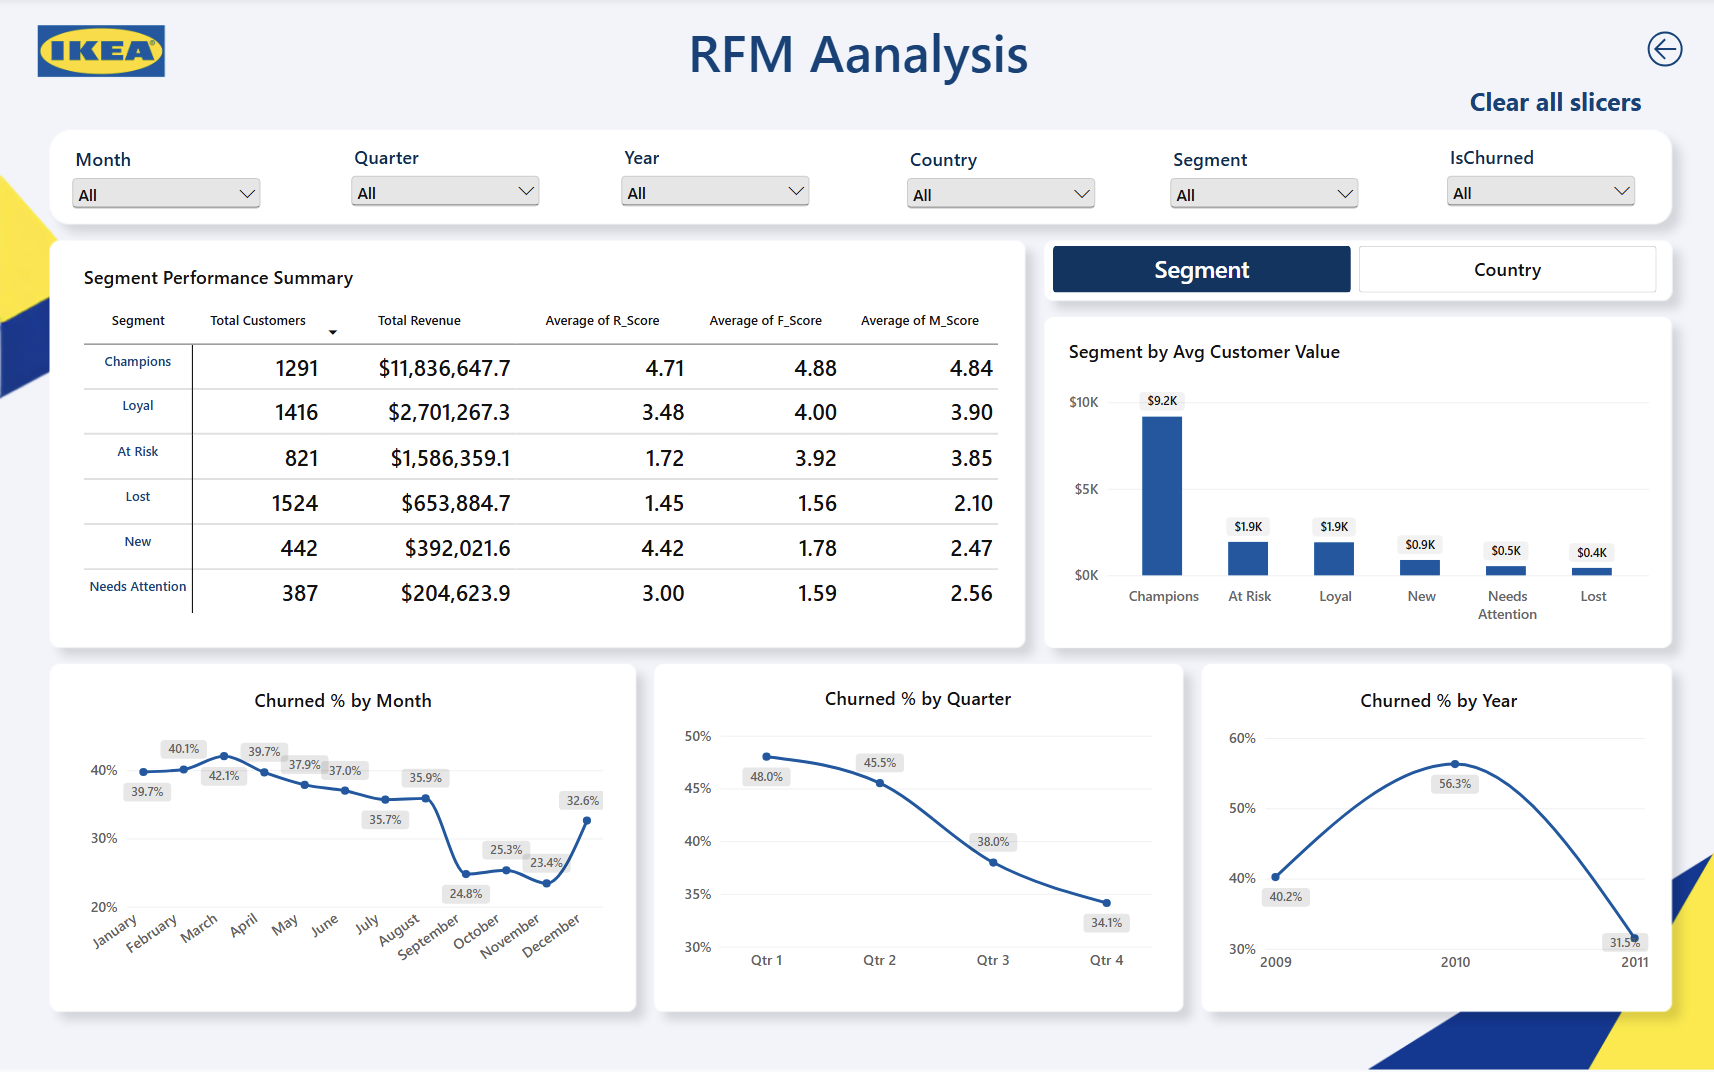

What the dashboard file says about the page in this screenshot:
{"tool":"powerbi","page":{"name":"RFM Aanalysis","canvas":[1750,1100],"ordinal":2},"visuals":[{"type":"slicer","fields":{"Values":["Sheet1.InvoiceDate.Variation.Date Hierarchy.Month"]},"box":[68.9,153.8,202,80.4],"z":0},{"type":"columnChart","title":"Segment by Avg Customer Value","fields":{"Category":["Sheet1.Segment"],"Y":["measure.Avg Customer Value"]},"box":[1074.5,335.2,624.5,323.7],"z":0,"group":"g2"},{"type":"lineChart","fields":{"Category":["Sheet1.InvoiceMonth.Variation.Date Hierarchy.Year"],"Y":["measure.Churned %"]},"box":[1237.5,691.1,461.5,326],"z":0,"group":"g1"},{"type":"slicer","fields":{"Values":["Sheet1.InvoiceDate.Variation.Date Hierarchy.Quarter"]},"box":[353.6,151.5,202,80.4],"z":1000},{"type":"pivotTable","title":"Segment Performance Summary","fields":{"Rows":["Sheet1.Segment"],"Values":["measure.Total Customers","measure.Total Revenue","Avg(Sheet1.R_Score)","Avg(Sheet1.F_Score)","Avg(Sheet1.M_Score)"]},"box":[66.6,254.8,971.2,404.1],"z":1000,"group":"g2"},{"type":"lineChart","fields":{"Category":["Sheet1.InvoiceMonth.Variation.Date Hierarchy.Quarter"],"Y":["measure.Churned %"]},"box":[681.9,688.8,509.7,326],"z":1000,"group":"g1"},{"type":"slicer","fields":{"Values":["Sheet1.InvoiceDate.Variation.Date Hierarchy.Year"]},"box":[630,151.5,202,89.5],"z":2000},{"type":"lineChart","fields":{"Category":["Sheet1.InvoiceMonth.Variation.Date Hierarchy.Month"],"Y":["measure.Churned %"]},"box":[68.9,690.4,562.5,326],"z":2000,"group":"g1"},{"type":"slicer","fields":{"Values":["Sheet1.Country"]},"box":[920.7,153.8,202,89.5],"z":3000},{"type":"slicer","fields":{"Values":["Sheet1.Segment"]},"box":[1189.3,153.8,202,89.5],"z":4000},{"type":"slicer","fields":{"Values":["Sheet1.IsChurned"]},"box":[1471.7,151.5,202,89.5],"z":5000},{"type":"group","id":"g1","title":"Revenue","box":[68.9,688.8,1630.1,328.3],"z":7000},{"type":"bookmarkNavigator","box":[1074.5,254.8,617.6,48.2],"z":8000},{"type":"image","box":[0,0,206.6,112.5],"z":9000},{"type":"textbox","box":[593.7,20.7,562.5,87.2],"z":10000},{"type":"actionButton","box":[1648.5,25.3,101,57.4],"z":11000},{"type":"actionButton","box":[1483.3,83.3,208.3,50],"z":12000},{"type":"group","id":"g2","title":"Segment","box":[66.6,254.8,1632.4,404.1],"z":14000}]}

Visuals, with their boxes in screenshot pixels (x1, y1, x2, y2), scaled from the page's 1750x1100 canvas onto the 1714x1072 screenshot:
slicer - Sheet1.InvoiceDate.Variation.Date Hierarchy.Month: rect(67, 150, 265, 228)
"Segment by Avg Customer Value" columnChart: rect(1052, 327, 1664, 642)
lineChart - Sheet1.InvoiceMonth.Variation.Date Hierarchy.Year x measure.Churned %: rect(1212, 674, 1664, 991)
slicer - Sheet1.InvoiceDate.Variation.Date Hierarchy.Quarter: rect(346, 148, 544, 226)
"Segment Performance Summary" pivotTable: rect(65, 248, 1016, 642)
lineChart - Sheet1.InvoiceMonth.Variation.Date Hierarchy.Quarter x measure.Churned %: rect(668, 671, 1167, 989)
slicer - Sheet1.InvoiceDate.Variation.Date Hierarchy.Year: rect(617, 148, 815, 235)
lineChart - Sheet1.InvoiceMonth.Variation.Date Hierarchy.Month x measure.Churned %: rect(67, 673, 618, 991)
slicer - Sheet1.Country: rect(902, 150, 1100, 237)
slicer - Sheet1.Segment: rect(1165, 150, 1363, 237)
slicer - Sheet1.IsChurned: rect(1441, 148, 1639, 235)
"Revenue" group: rect(67, 671, 1664, 991)
bookmarkNavigator: rect(1052, 248, 1657, 295)
image: rect(0, 0, 202, 110)
textbox: rect(581, 20, 1132, 105)
actionButton: rect(1615, 25, 1713, 81)
actionButton: rect(1453, 81, 1657, 130)
"Segment" group: rect(65, 248, 1664, 642)
